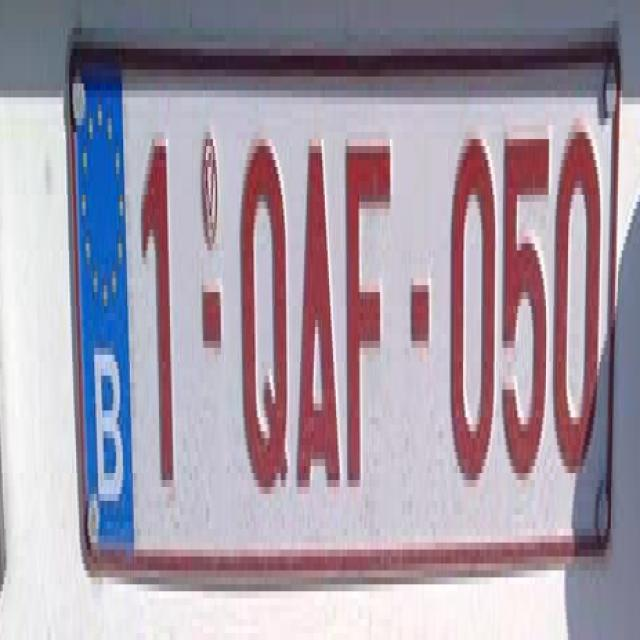Belgique: (73, 75, 134, 540)
EU: (69, 45, 620, 557)
